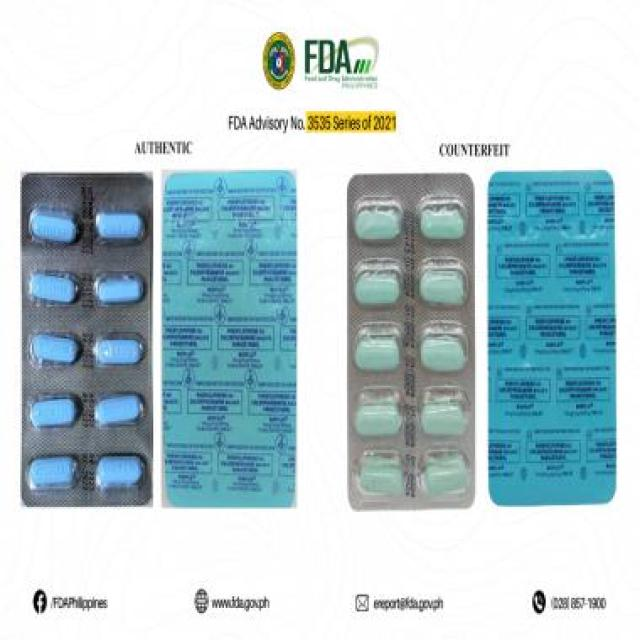Bioflu_Strip: (329, 160, 481, 518), (12, 157, 160, 518)
